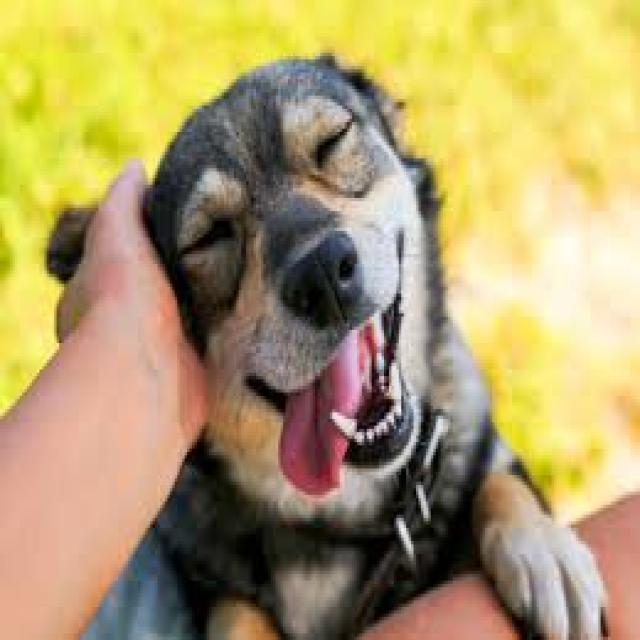Dog: (168, 49, 527, 640)
